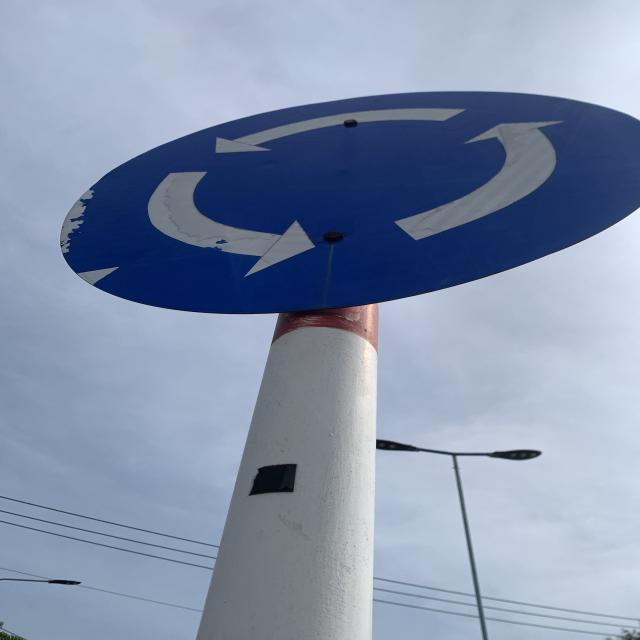Xe_Bus: (61, 86, 640, 316)
